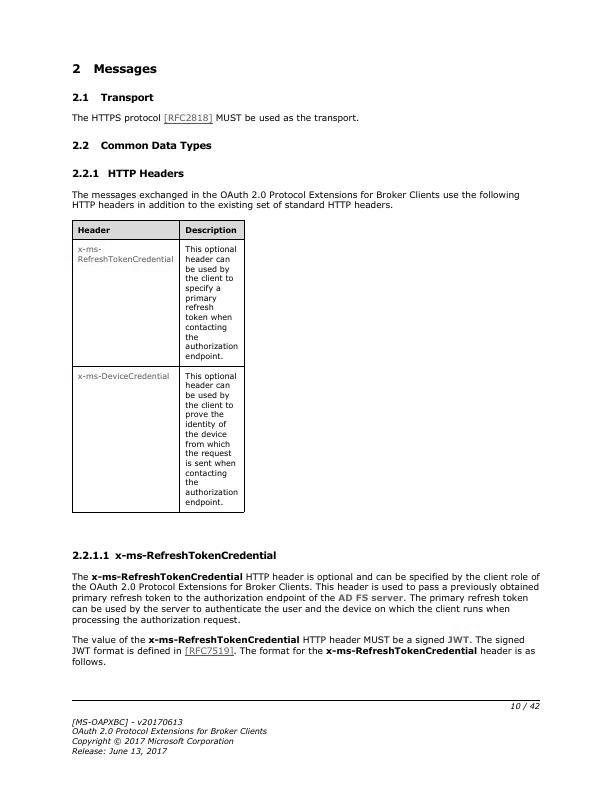table: (70, 218, 247, 517)
text: (70, 571, 545, 626), (68, 632, 537, 670), (70, 187, 521, 211), (68, 713, 268, 756), (68, 109, 360, 127), (68, 547, 281, 563), (70, 139, 216, 155), (68, 165, 192, 182), (67, 60, 159, 78), (68, 89, 156, 105)
